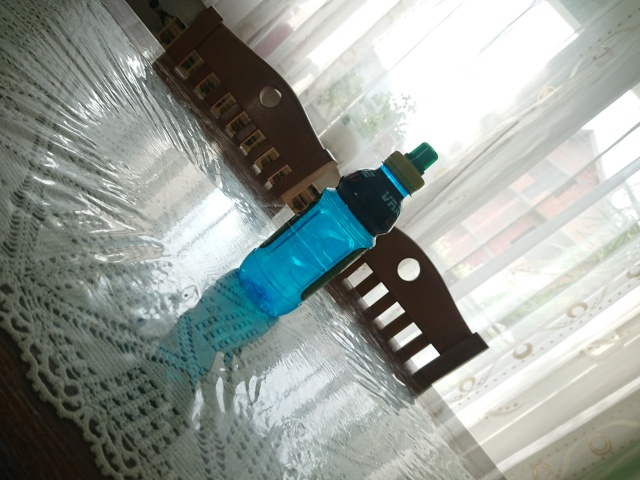Vindi Iso Sport Forest Strawberries 500mL: (236, 140, 440, 319)
